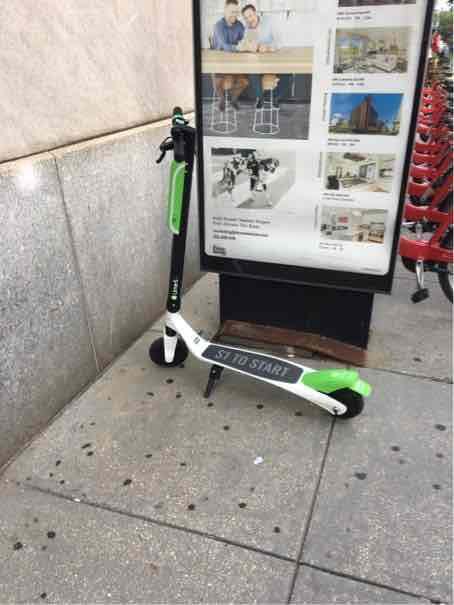scooter: (135, 102, 371, 435)
